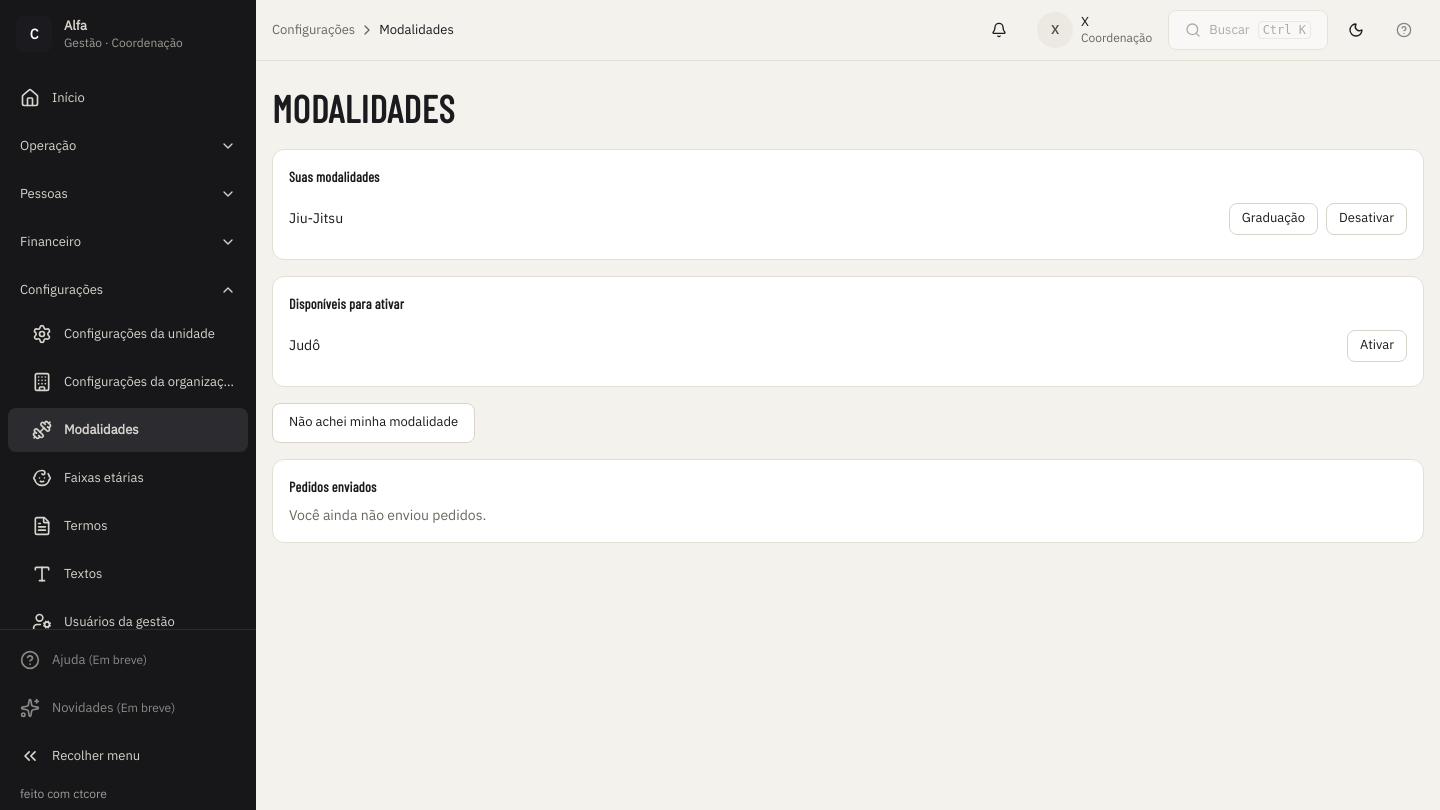
Test case: GraduationDialog › CA13: nome vazio mostra o erro no campo e nada é enviado; 400 do servidor aparece no campo apontado
Expected: the heading "Modalidades" is shown, [272,85,455,132]
Click the button "Graduação".
click(1273, 218)  # box [1229,202,1318,234]
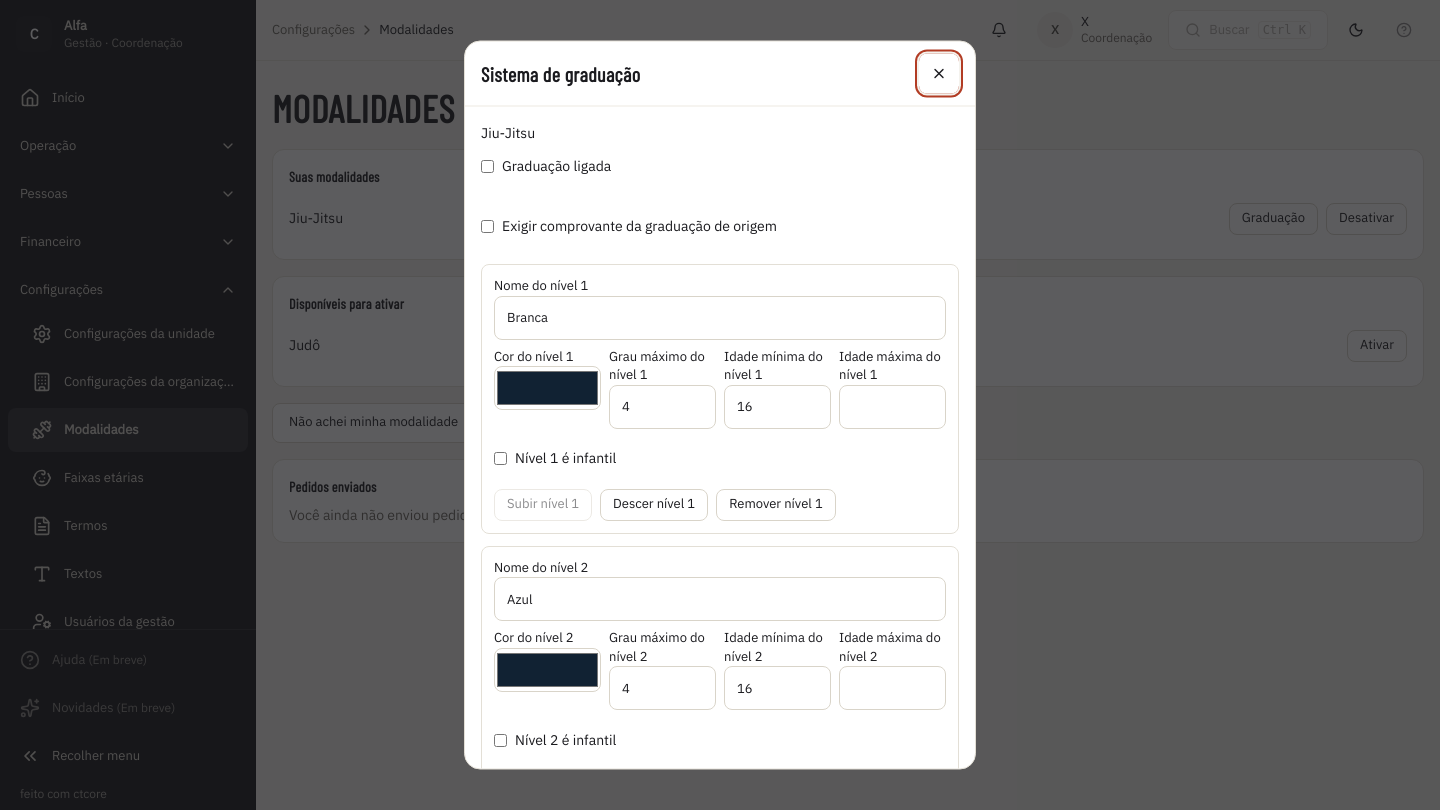
Result: the field labelled "Nome do nível 1" is shown
Clear the field labelled "Nome do nível 1" at x=720, y=317, box [494,295,946,339]
(page scrolled)
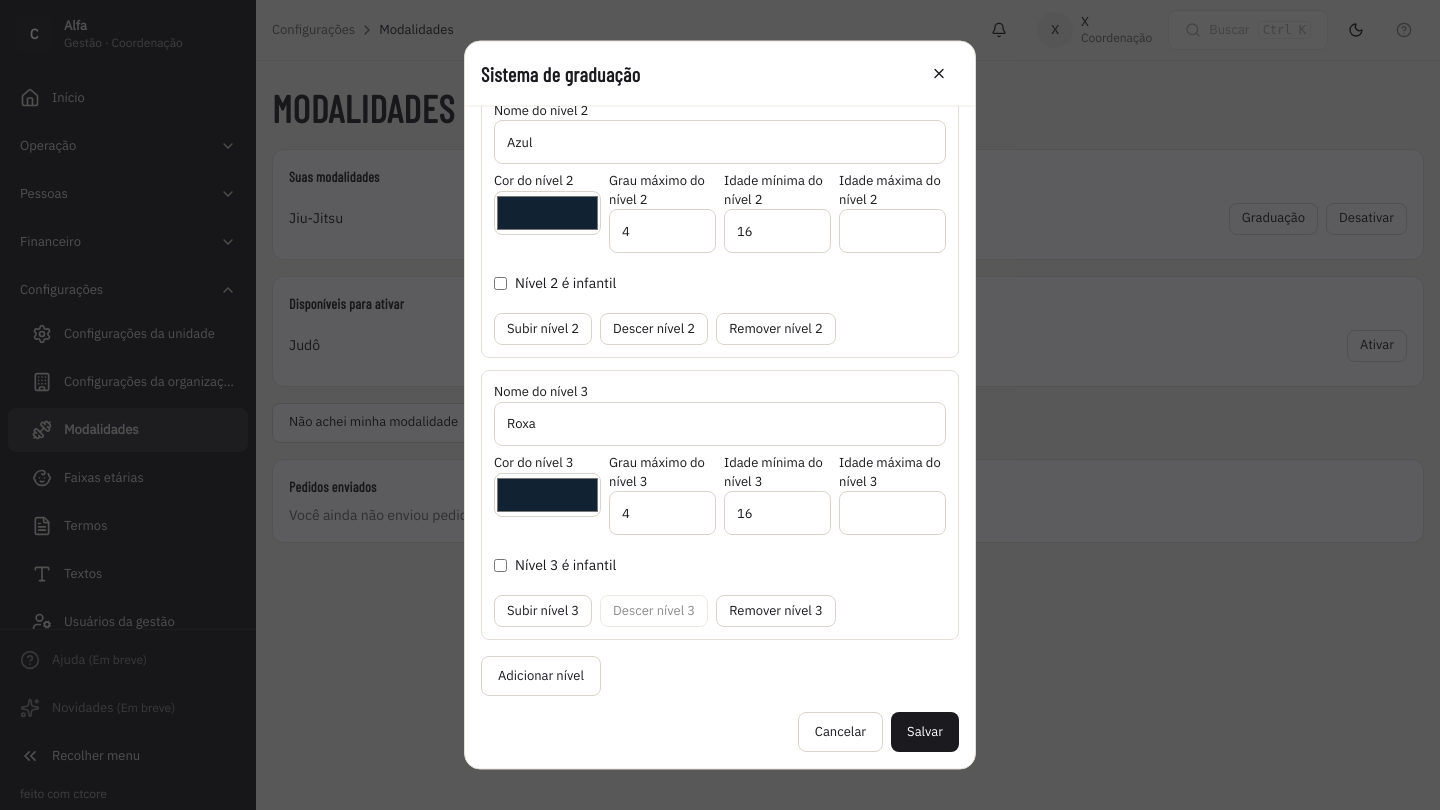
Click the button "Salvar".
click(925, 733)  # box [891,713,959,753]
(page scrolled)
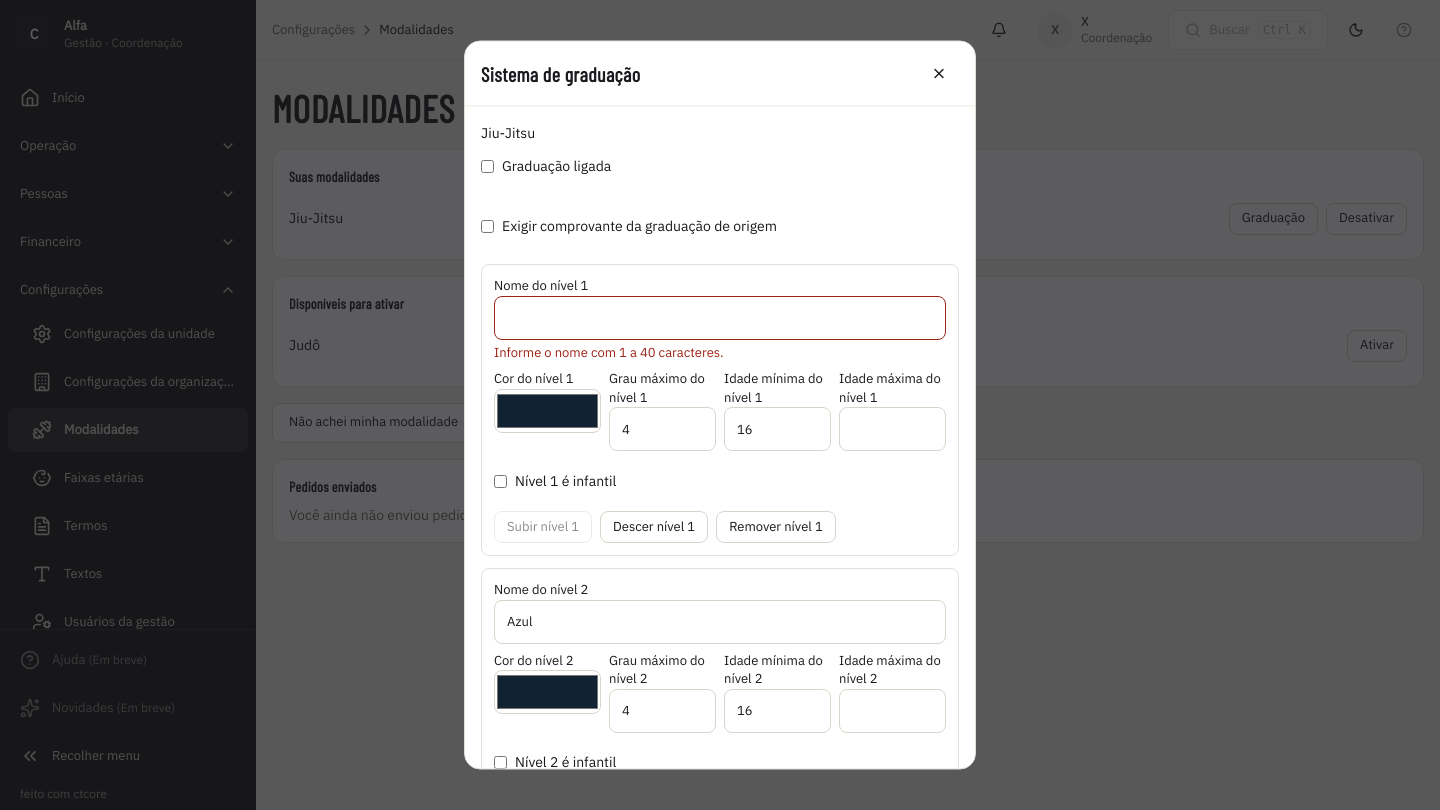
Result: the message shows "1 a 40 caracteres" at [494,343,724,360]
Type "Branca" into the field labelled "Nome do nível 1".
click(720, 317); type("Branca")  # box [494,295,946,339]
(page scrolled)
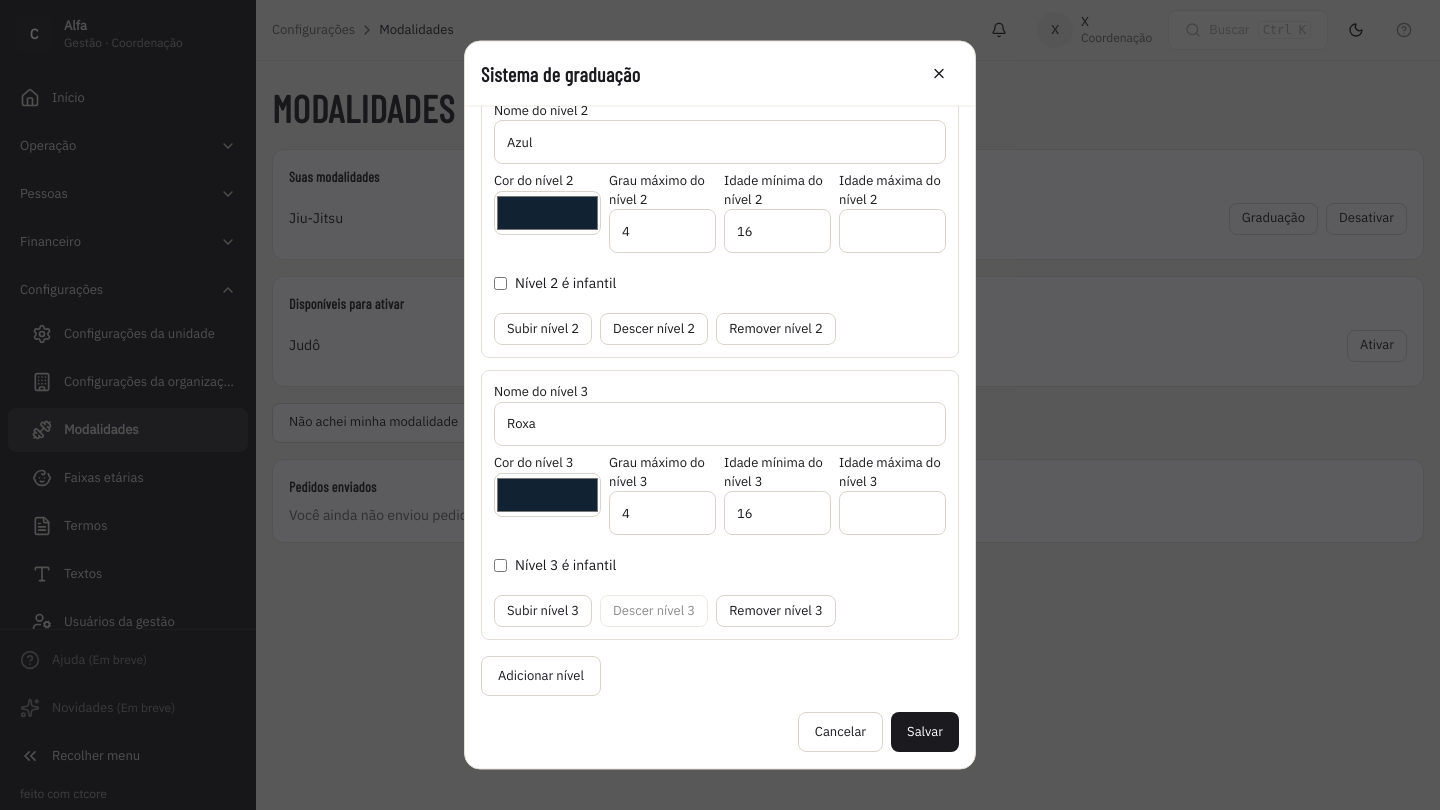
Click the button "Salvar".
click(925, 733)  # box [891,713,959,753]
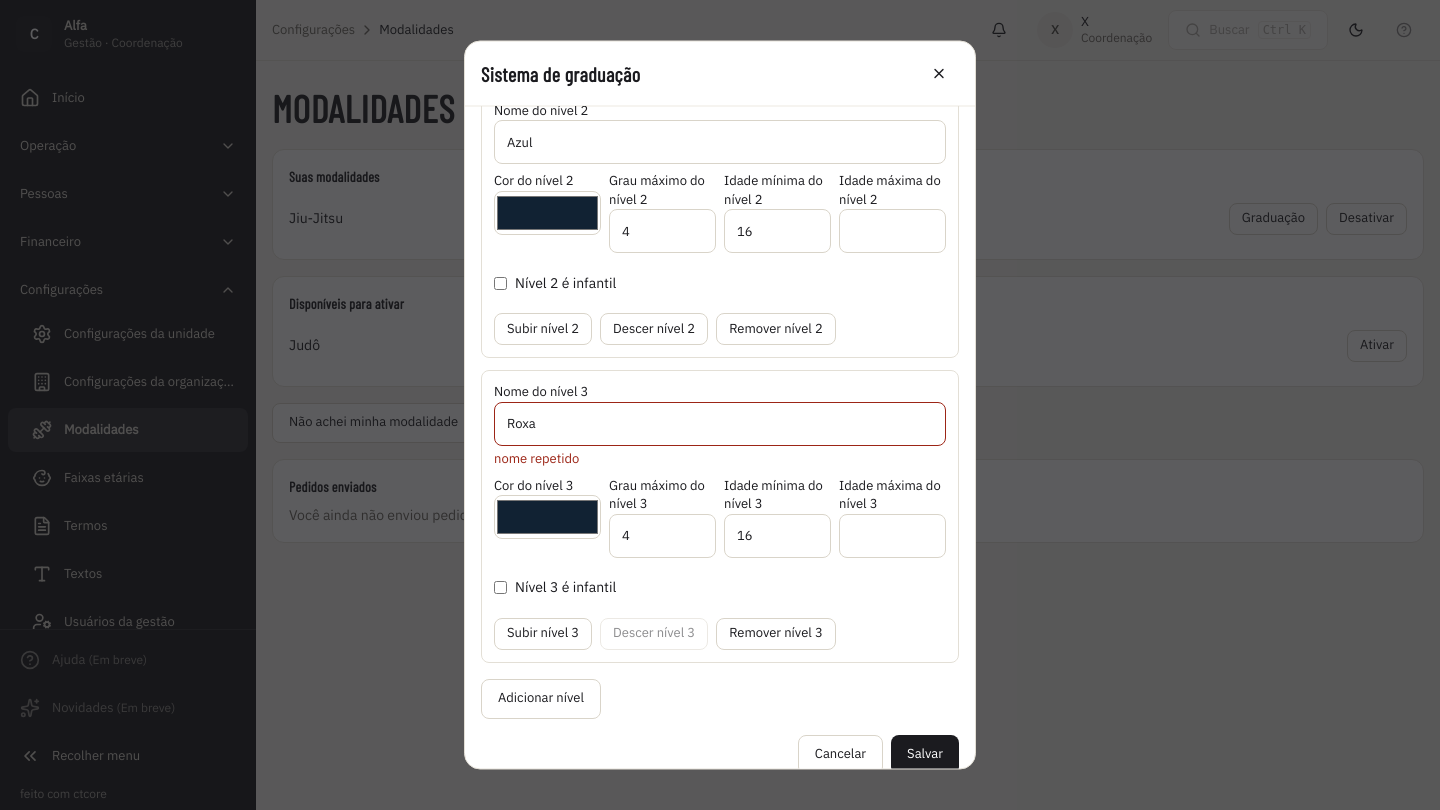
Result: the text "nome repetido" is shown at [494,450,579,467]
